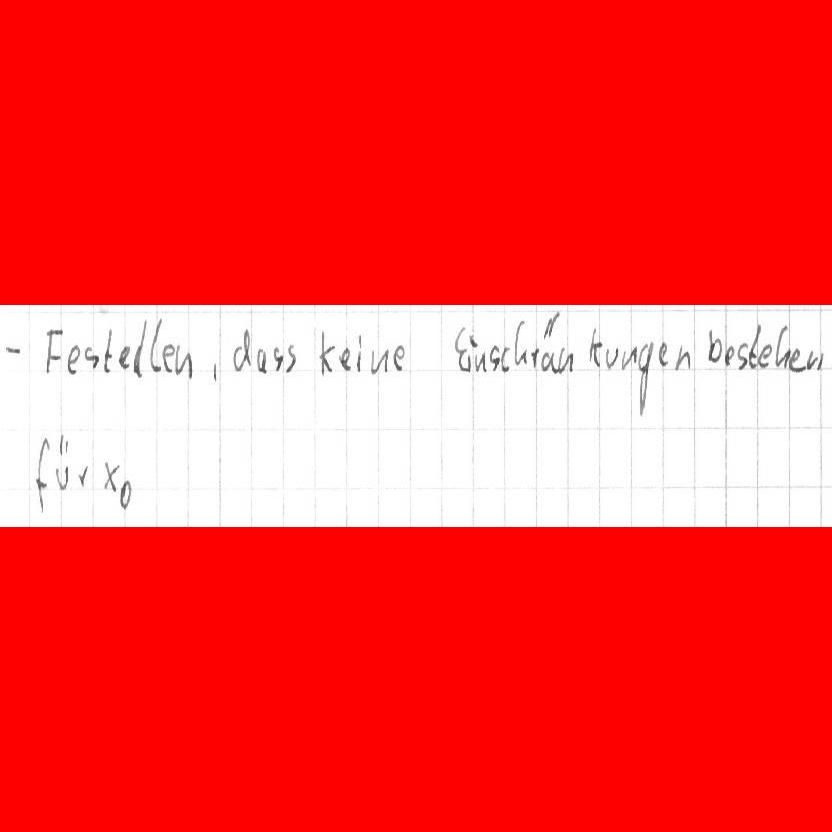Char: (635, 341, 654, 416), (538, 309, 560, 373), (34, 436, 52, 512), (41, 325, 64, 374), (232, 325, 254, 373), (54, 432, 72, 490), (132, 316, 148, 378), (148, 316, 164, 372), (317, 328, 335, 375), (586, 325, 604, 370), (512, 319, 529, 365), (175, 341, 194, 382), (774, 323, 791, 368), (452, 324, 467, 374), (705, 327, 723, 364), (101, 459, 121, 492), (101, 325, 114, 374), (556, 344, 577, 374), (673, 341, 693, 372), (370, 345, 390, 375), (747, 323, 760, 368), (619, 343, 639, 370), (66, 342, 82, 375), (118, 477, 134, 510), (465, 333, 476, 376), (391, 343, 407, 372), (806, 349, 826, 372), (788, 347, 806, 372), (161, 340, 174, 374), (604, 344, 620, 370), (84, 344, 101, 368), (255, 346, 269, 375), (338, 345, 353, 372), (488, 342, 501, 373), (285, 341, 297, 374), (118, 342, 132, 369), (355, 331, 364, 372), (472, 349, 487, 373), (500, 343, 512, 373), (757, 343, 772, 367), (657, 340, 670, 367), (210, 359, 224, 384), (272, 344, 284, 373), (529, 341, 541, 370), (736, 341, 748, 370), (2, 341, 23, 357), (77, 465, 89, 489), (724, 342, 735, 367)
